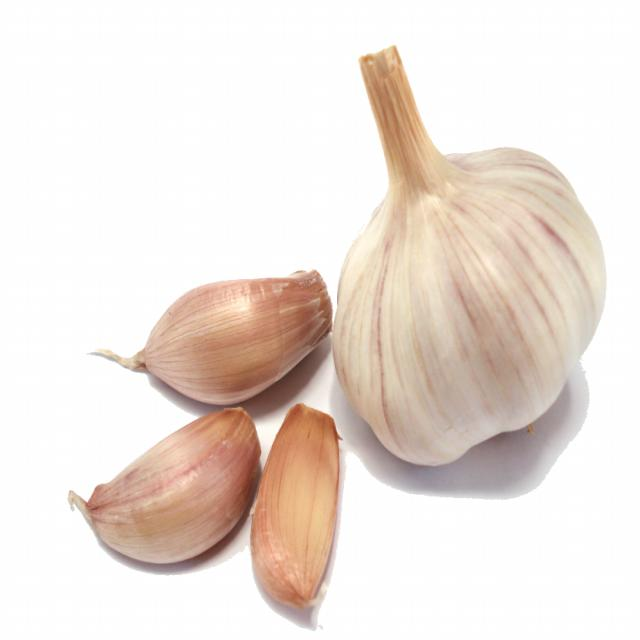garlic: (338, 111, 611, 473), (116, 264, 336, 403), (85, 404, 252, 573), (254, 404, 344, 611)
